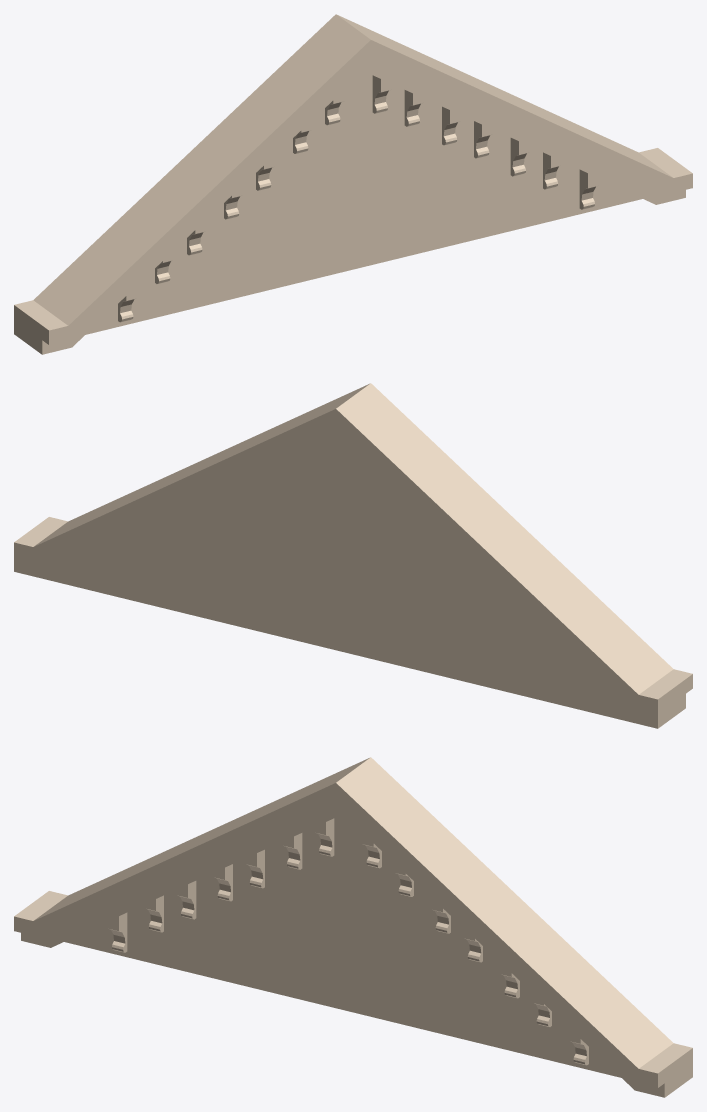
File: BC_RoofWall_B.fbx
The picture shows the model from 3 angles, top to bottom: view 1: azimuth 30°, elevation 25°; view 2: azimuth 150°, elevation 25°; view 3: azimuth 330°, elevation 25°; orthographic projection.
Parts seen in each view (by area): view 1: BC_RoofWall_B; view 2: BC_RoofWall_B; view 3: BC_RoofWall_B.
Part boxes in pixels (x1,y1,x2,y2): BC_RoofWall_B: (14,14,692,354); BC_RoofWall_B: (14,383,692,728); BC_RoofWall_B: (14,757,692,1097).
Bounding box in the file's own units: 2385 × 855 × 225.
